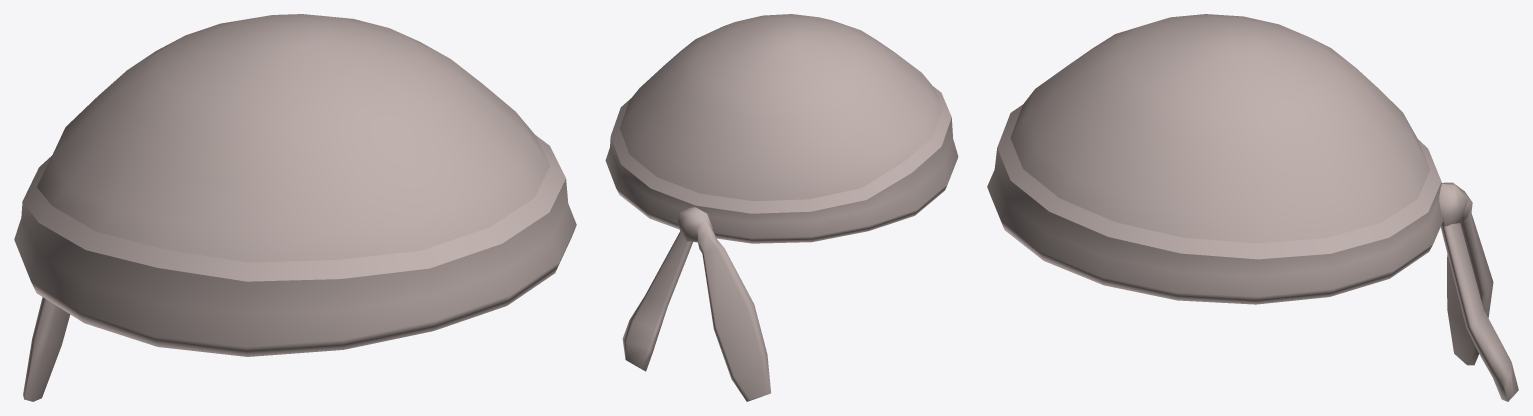
File: Hat_114_02.fbx
3 renders of one model, left to right at view 1: azimuth 30°, elevation 25°; view 2: azimuth 150°, elevation 25°; view 3: azimuth 270°, elevation 25°, orthographic. The views are drawn at different scales.
Parts seen in each view (by area): view 1: Hat_114_02; view 2: Hat_114_02; view 3: Hat_114_02.
Part boxes in pixels (box(x1,y1,x2,y2)): Hat_114_02: box(14, 14, 576, 401); Hat_114_02: box(605, 14, 958, 401); Hat_114_02: box(987, 14, 1518, 401).
Size of the model in its own units: 36.84 by 32.99 by 43.12.
